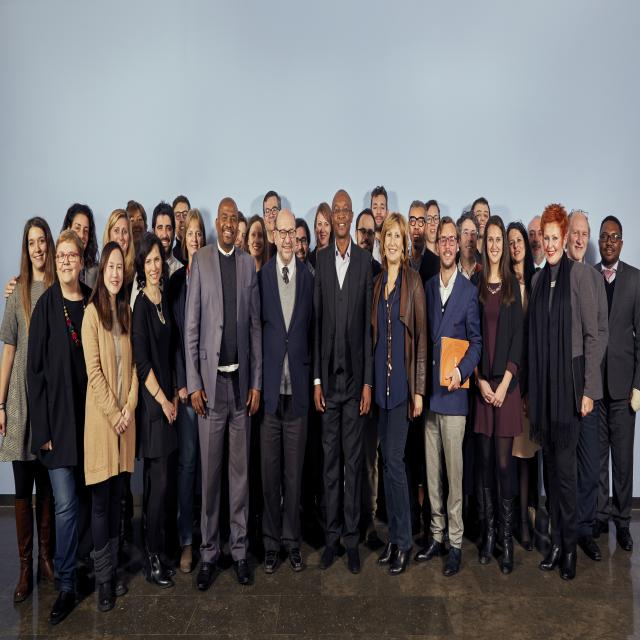body: (521, 201, 605, 584), (184, 197, 264, 589), (25, 228, 98, 623), (411, 212, 485, 580), (310, 188, 376, 577), (366, 210, 430, 580), (78, 238, 140, 615), (0, 213, 58, 605), (466, 212, 526, 577), (256, 208, 314, 572), (129, 230, 182, 590), (588, 215, 640, 552), (564, 206, 610, 564), (170, 207, 207, 574), (402, 198, 441, 544), (506, 220, 541, 552), (3, 202, 100, 301), (129, 197, 185, 316), (101, 207, 136, 307), (419, 199, 444, 295), (454, 210, 483, 288), (355, 208, 384, 279), (307, 202, 334, 272), (260, 190, 282, 269), (242, 214, 270, 272), (370, 185, 389, 265), (293, 217, 317, 280), (470, 197, 491, 265), (125, 199, 148, 259), (172, 194, 191, 266), (526, 215, 548, 273), (234, 210, 248, 250)
